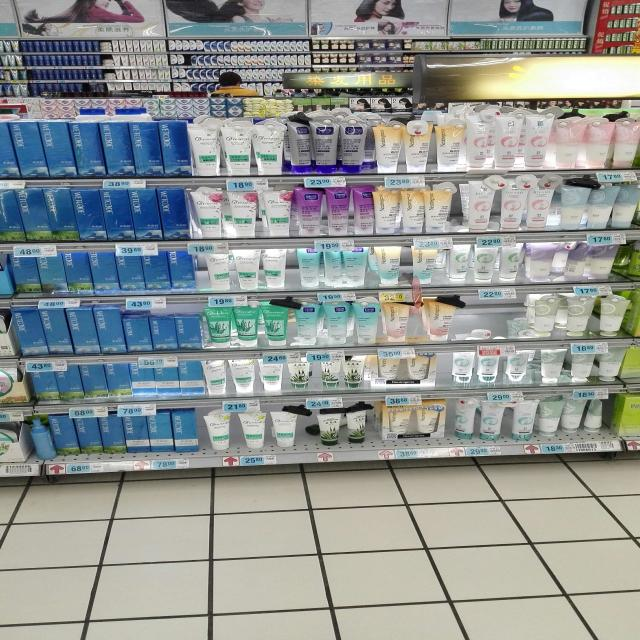empty: (468, 288, 520, 340)
